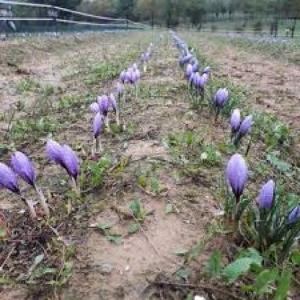Saffron: (46, 137, 79, 174), (228, 153, 248, 195), (13, 152, 39, 184), (0, 160, 23, 193), (258, 179, 278, 214), (211, 86, 227, 109), (240, 117, 254, 140), (230, 108, 240, 132), (98, 95, 110, 115), (93, 114, 102, 135)
